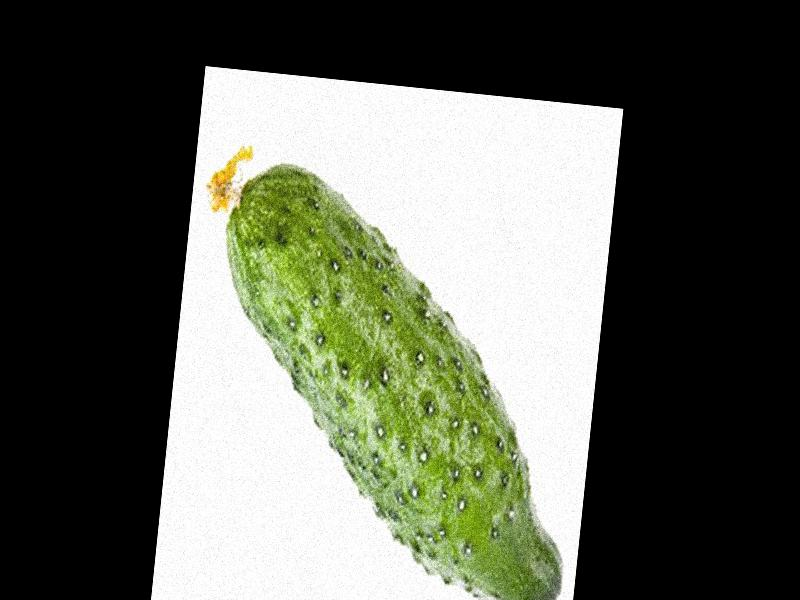Cucumber: (166, 143, 600, 600)
